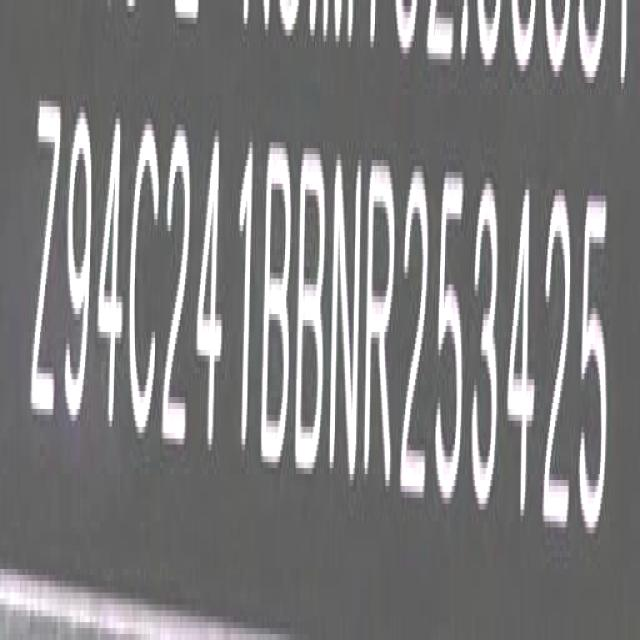1: (234, 135, 254, 467)
2: (545, 189, 576, 540), (402, 171, 433, 505), (164, 120, 194, 453)
3: (473, 180, 502, 517)
4: (508, 181, 537, 527), (97, 108, 126, 438), (200, 130, 227, 463)
5: (581, 194, 613, 542), (437, 167, 465, 509)
9: (66, 108, 93, 438)
B: (262, 139, 293, 471), (297, 146, 327, 476)
C: (132, 120, 162, 452)
N: (328, 149, 362, 483)
R: (365, 156, 397, 488)
Z: (32, 104, 63, 436)
